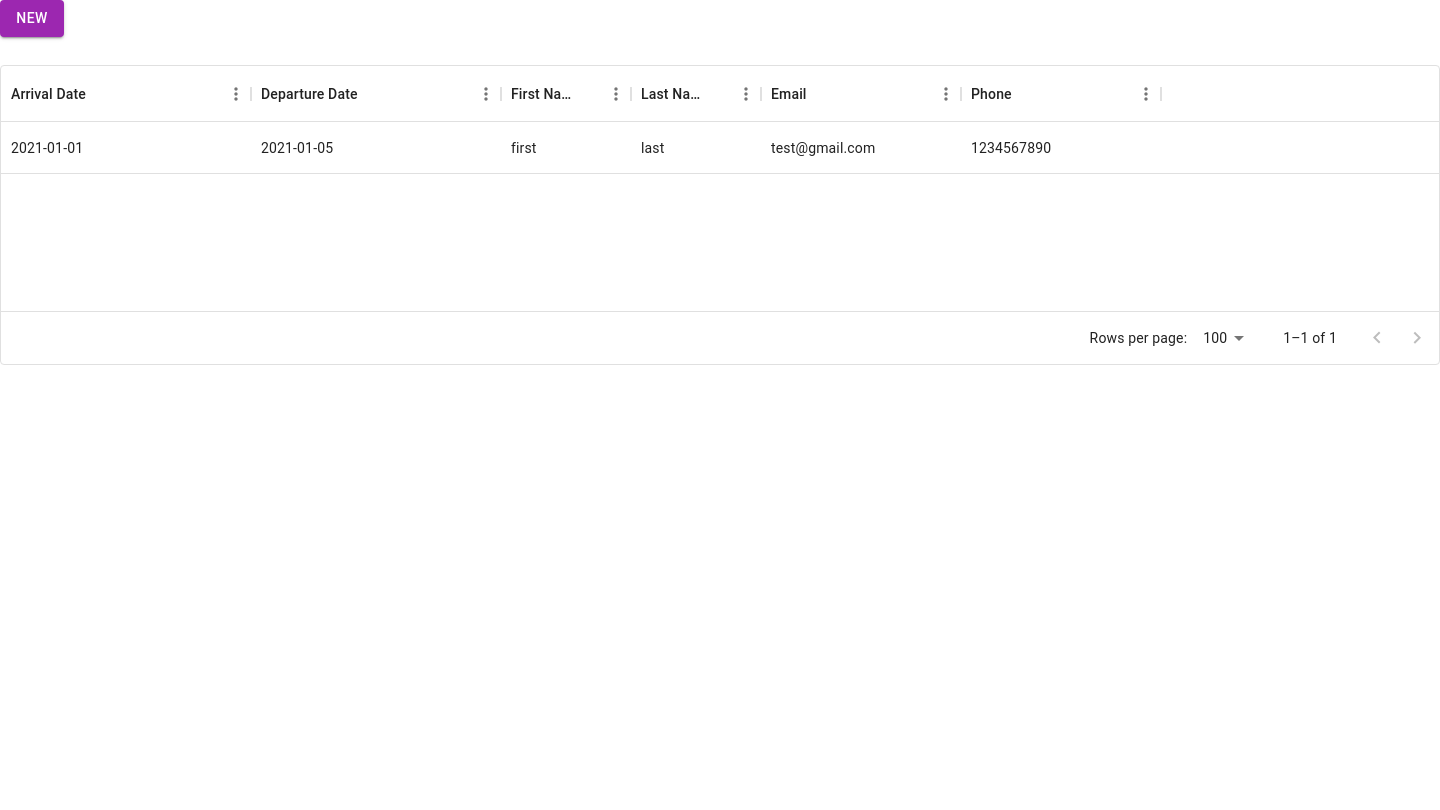
Test: SearchResult › opens ModalDialog on New button click
The image size is (1440, 810).
What coordinates should you click on to do the following:
click the button "New"
I would click on:
 (32, 18)
Its box is [0,0,64,36].
(page scrolled)
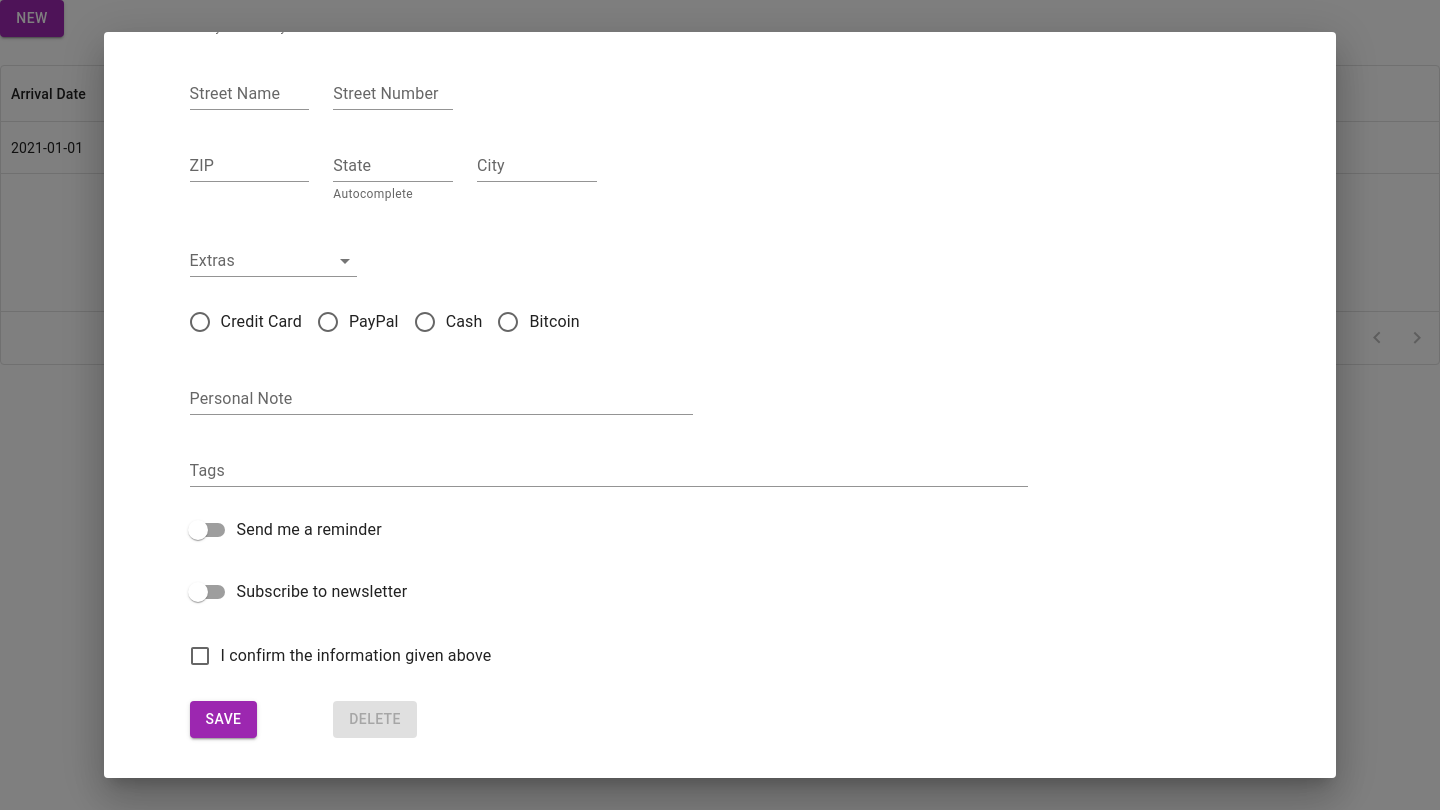
Now the button "Save" is shown, box [190,701,257,738]
Now the button "Delete" is shown, box [333,701,417,738]
